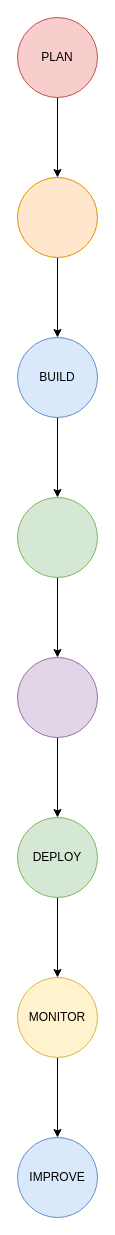
Image size: 115x1235. Some labels were removed from this diagram. The box of each missing label's shape, as (x1, y1, x2, y2) in pixels:
CODE: (16, 176, 98, 258)
RELEASE: (16, 656, 98, 738)
TEST: (16, 496, 98, 578)
